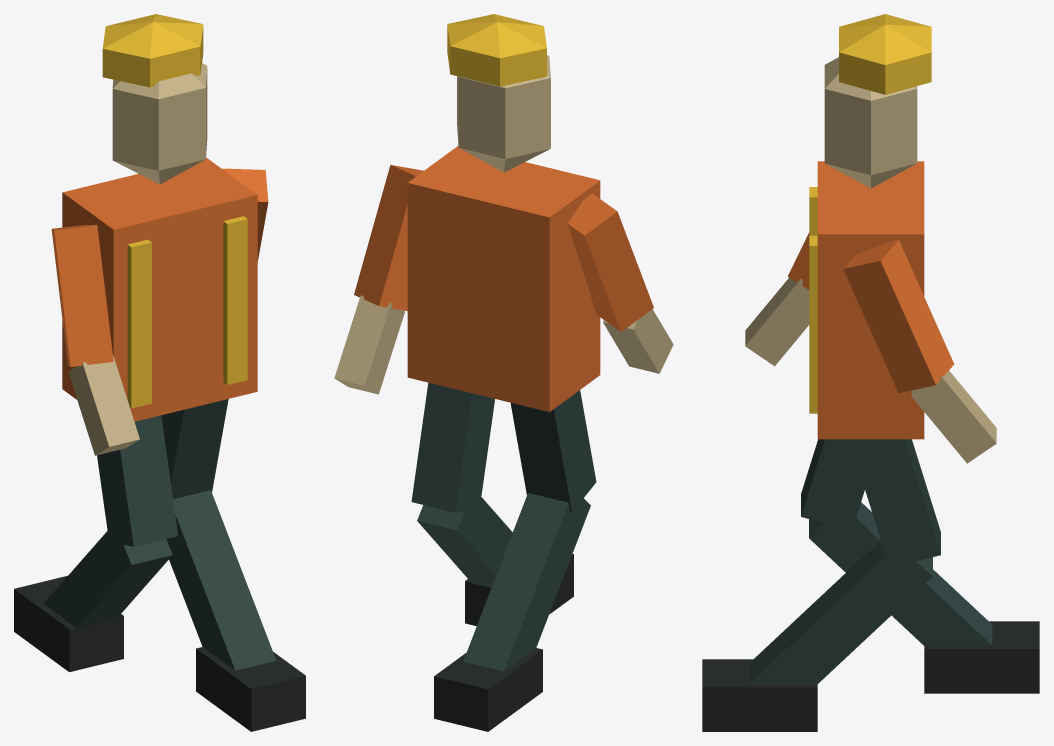
Rendered from TownWorker2.obj.
3 renders of one model, left to right at view 1: azimuth 30°, elevation 25°; view 2: azimuth 150°, elevation 25°; view 3: azimuth 270°, elevation 25°, orthographic. The views are drawn at different scales.
Parts seen in each view (by area): view 1: TownWorker2; view 2: TownWorker2; view 3: TownWorker2.
Part boxes in pixels (x1,y1,x2,y2): TownWorker2: (14,14,305,731); TownWorker2: (334,14,673,731); TownWorker2: (702,14,1039,731).
Size of the model in its own units: 0.7047 by 1.81 by 0.82.
Materials: 1 (1 with a texture image).
